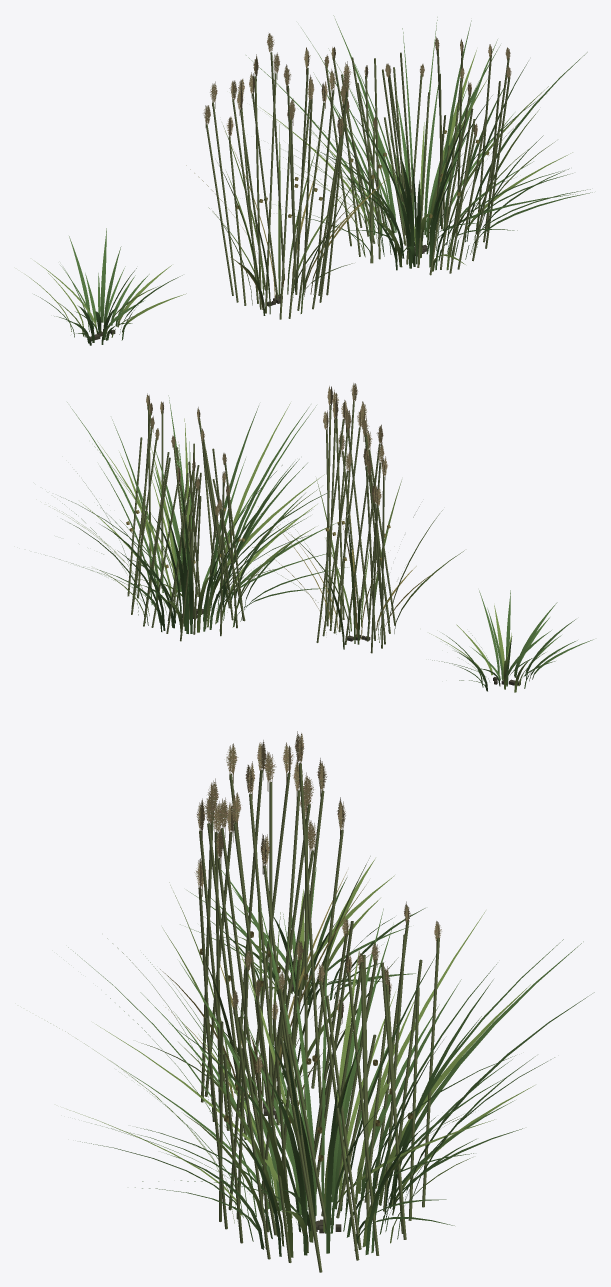
3 views of the same model, one above another, from view 1: azimuth 30°, elevation 25°; view 2: azimuth 150°, elevation 25°; view 3: azimuth 270°, elevation 25° (orthographic). The views are drawn at different scales.
Visible parts, largest first — view 1: VIS_stalk, VIS_sedge_green, VIS_sedge_light, VIS_seed_plume, VIS_reed_green, VIS_reed_ochre; view 2: VIS_stalk, VIS_sedge_green, VIS_sedge_light, VIS_seed_plume, VIS_reed_green, VIS_reed_ochre; view 3: VIS_stalk, VIS_sedge_green, VIS_sedge_light, VIS_seed_plume, VIS_reed_green, VIS_reed_ochre.
Boxes of the visible parts, x1,y1,x2,y2 form: VIS_stalk: [206, 49, 510, 319]; VIS_sedge_green: [34, 15, 592, 345]; VIS_sedge_light: [25, 50, 572, 337]; VIS_seed_plume: [203, 33, 511, 139]; VIS_reed_green: [208, 124, 362, 315]; VIS_reed_ochre: [186, 130, 489, 309]; VIS_stalk: [127, 401, 395, 653]; VIS_sedge_green: [45, 395, 593, 691]; VIS_sedge_light: [49, 403, 545, 692]; VIS_seed_plume: [146, 383, 387, 520]; VIS_reed_green: [274, 478, 464, 649]; VIS_reed_ochre: [126, 484, 433, 639]; VIS_stalk: [198, 763, 439, 1272]; VIS_sedge_green: [68, 867, 594, 1256]; VIS_sedge_light: [47, 858, 534, 1257]; VIS_seed_plume: [194, 731, 441, 1082]; VIS_reed_green: [107, 821, 398, 1116]; VIS_reed_ochre: [160, 872, 412, 1161].
Size of the model in its own units: 4.21 by 1.97 by 2.66.
7 materials, 7 textured.
